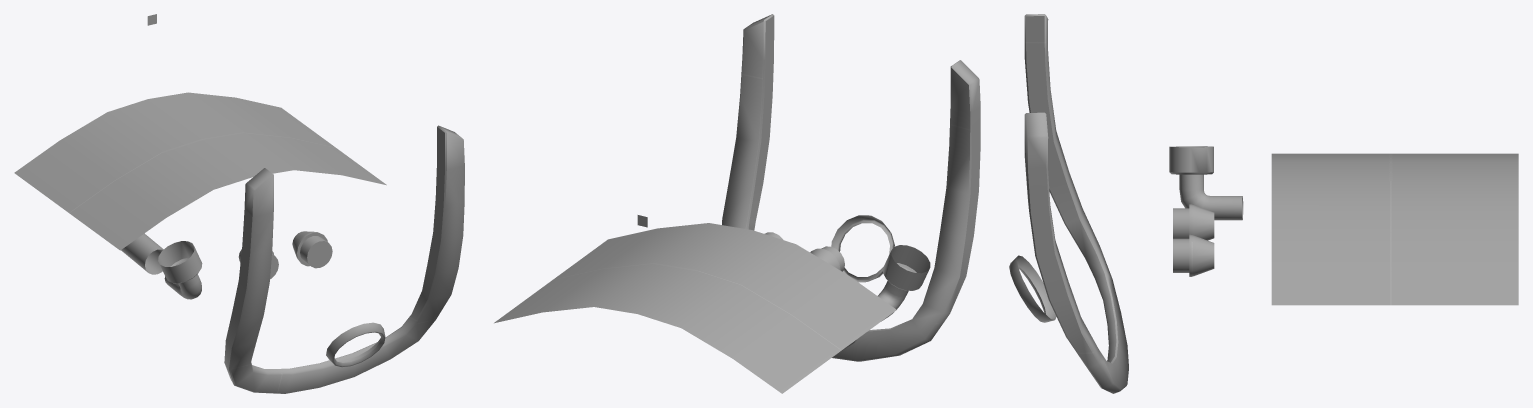
The model's file is CoffeeMachine_18_CoffeeMachine_18_0_GeomSubset_2.obj.
3 renders of one model, left to right at view 1: azimuth 30°, elevation 25°; view 2: azimuth 150°, elevation 25°; view 3: azimuth 270°, elevation 25°, orthographic. The views are drawn at different scales.
Visible parts, largest first — view 1: CoffeeMachine_18_CoffeeMachine_18_0_GeomSubset_2; view 2: CoffeeMachine_18_CoffeeMachine_18_0_GeomSubset_2; view 3: CoffeeMachine_18_CoffeeMachine_18_0_GeomSubset_2.
Part boxes in pixels (<box>): CoffeeMachine_18_CoffeeMachine_18_0_GeomSubset_2: <box>14,14,464,393</box>; CoffeeMachine_18_CoffeeMachine_18_0_GeomSubset_2: <box>494,14,980,393</box>; CoffeeMachine_18_CoffeeMachine_18_0_GeomSubset_2: <box>1009,14,1518,393</box>.
Size of the model in its own units: 0.2919 by 0.2772 by 0.4143.
